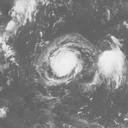cyclone: (38, 35, 87, 84)
